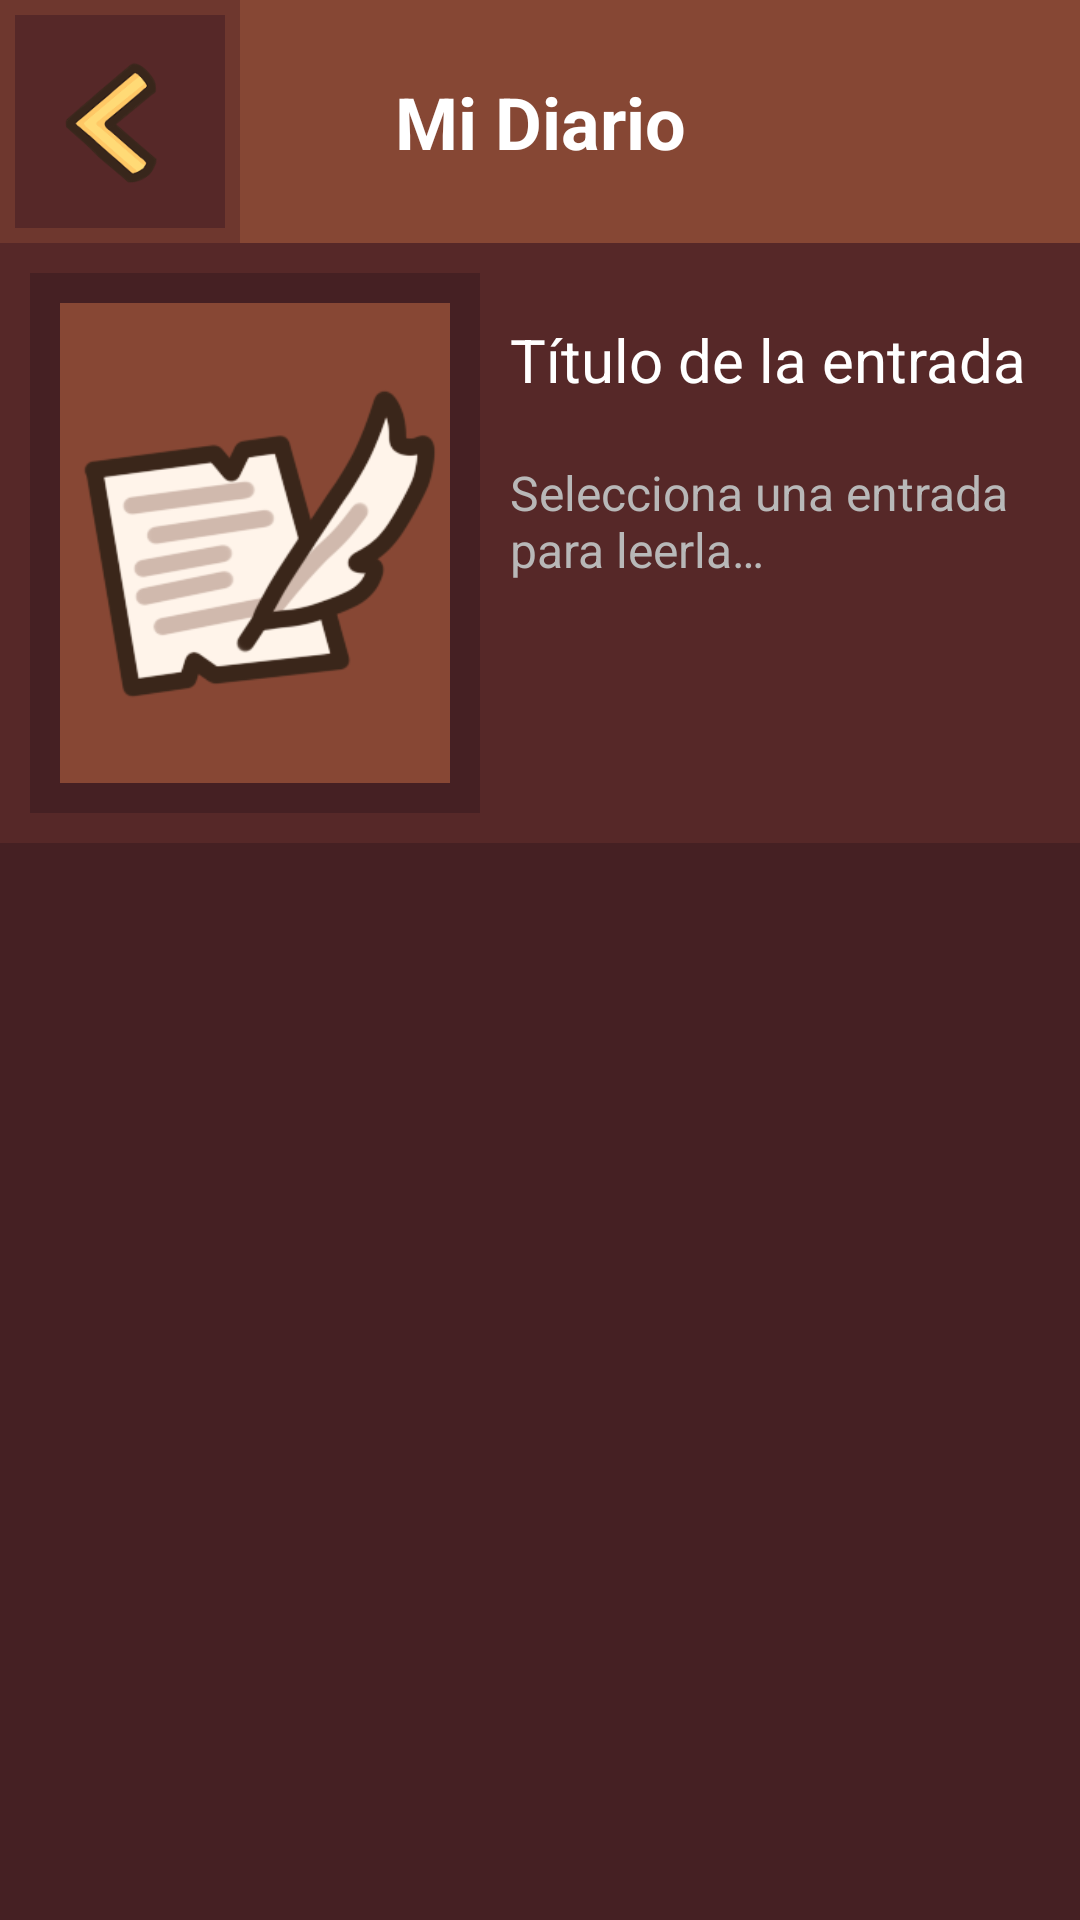

Icons on this 1080px x 1920px Android screen, each with its box as (x1, y1, x2, y2):
Volver atras: (65, 62, 158, 184)
